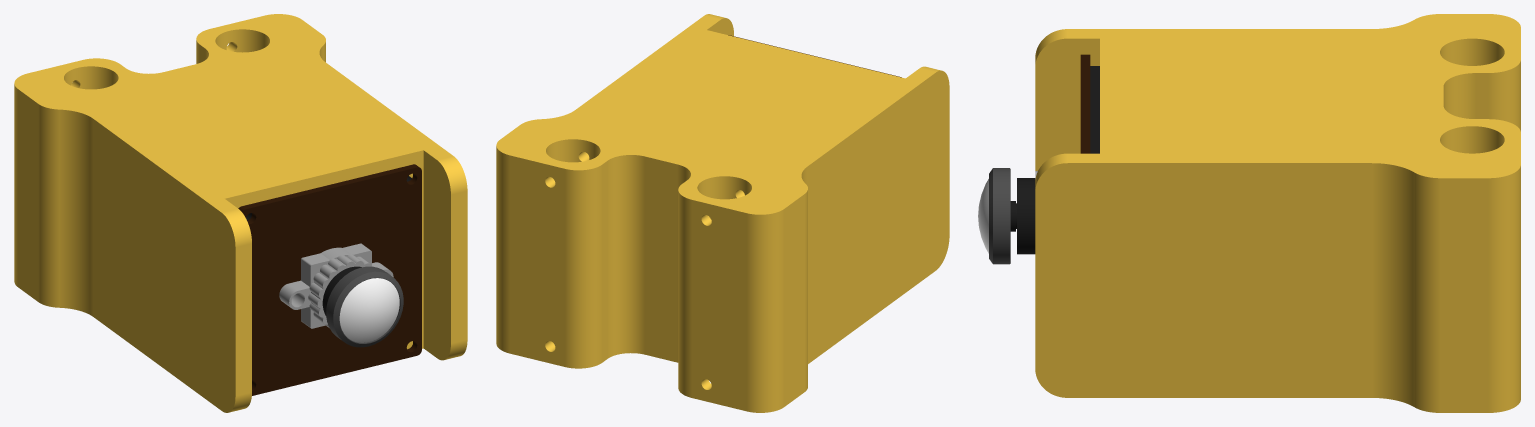
Rendered from fisheye_camera.dae.
The picture shows the model from 3 angles, left to right: view 1: azimuth 30°, elevation 25°; view 2: azimuth 150°, elevation 25°; view 3: azimuth 270°, elevation 25°; orthographic projection. The views are drawn at different scales.
Visible parts, largest first — view 1: Part 1, 180° Camera (×4); view 2: Part 1; view 3: Part 1, 180° Camera (×5).
Part boxes in pixels (<box>): Part 1: <box>14,14,467,412</box>; 180° Camera (×4): <box>238,164,421,395</box>; Part 1: <box>496,14,949,412</box>; Part 1: <box>1035,14,1520,412</box>; 180° Camera (×5): <box>978,54,1099,264</box>.
Bounding box in the file's own units: 0.06 × 0.0838 × 0.04.
